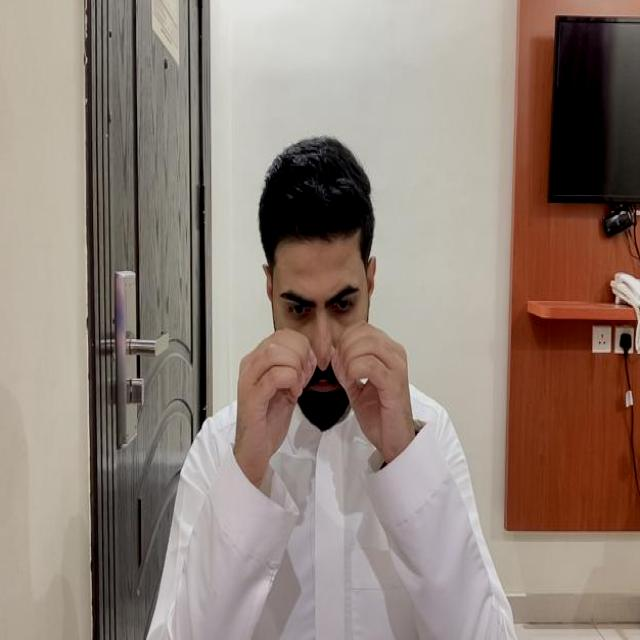analysis: (232, 320, 424, 466)
